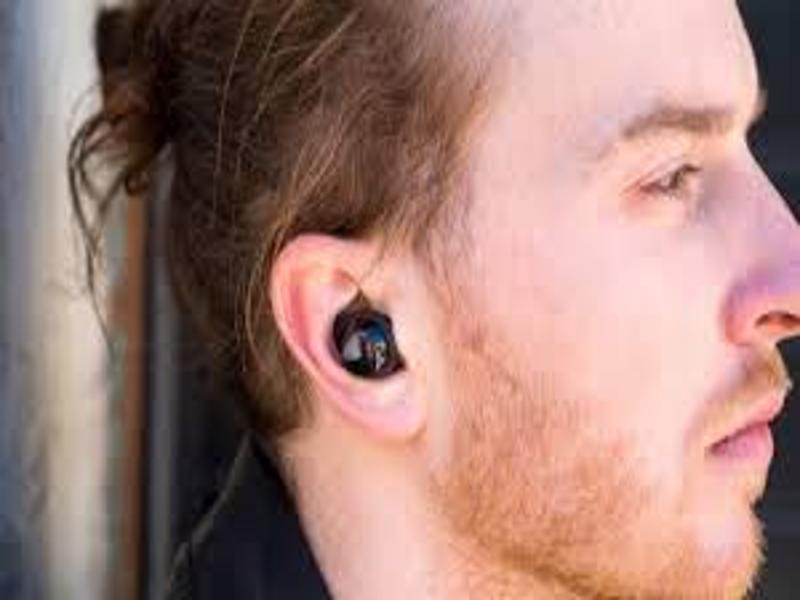headphone: (329, 305, 414, 380)
